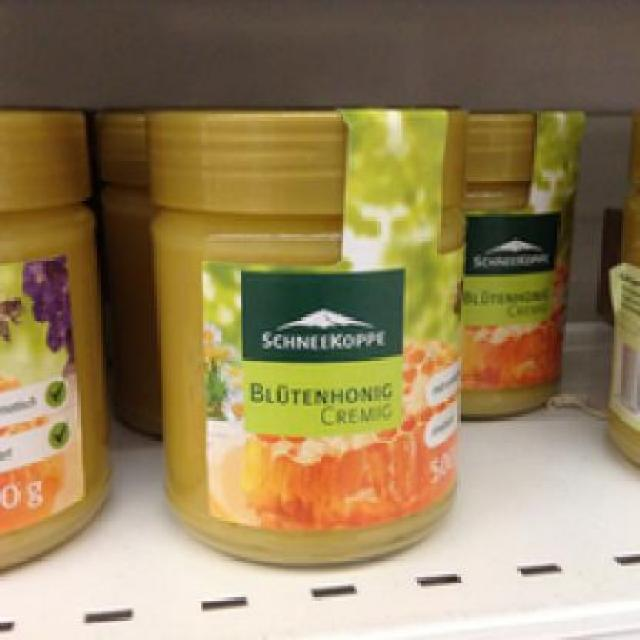Honey: (142, 97, 472, 566)
